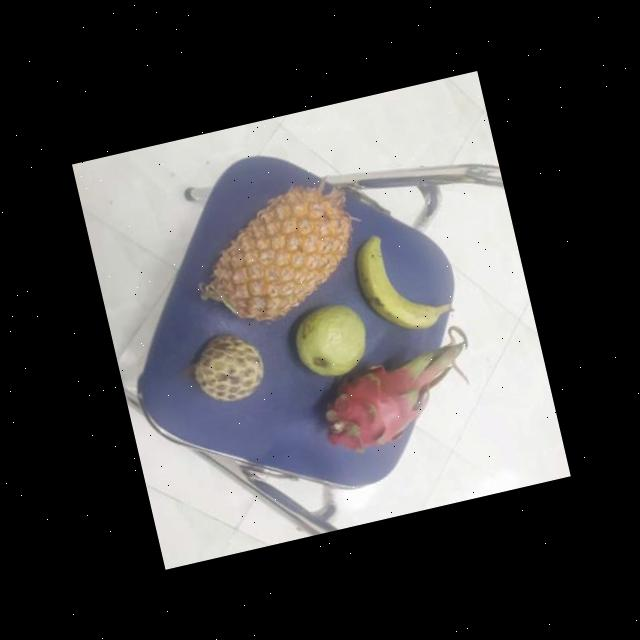Sakya fruit: (182, 322, 268, 408)
banana: (348, 222, 447, 338)
guava: (286, 295, 371, 384)
pineapple: (184, 170, 369, 332)
pitaya: (314, 348, 442, 458)
